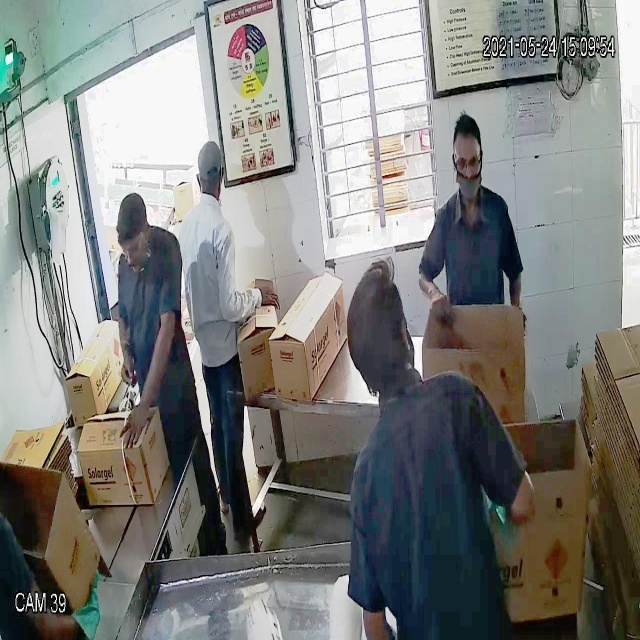Gafas: (447, 146, 483, 177), (114, 232, 148, 260)
